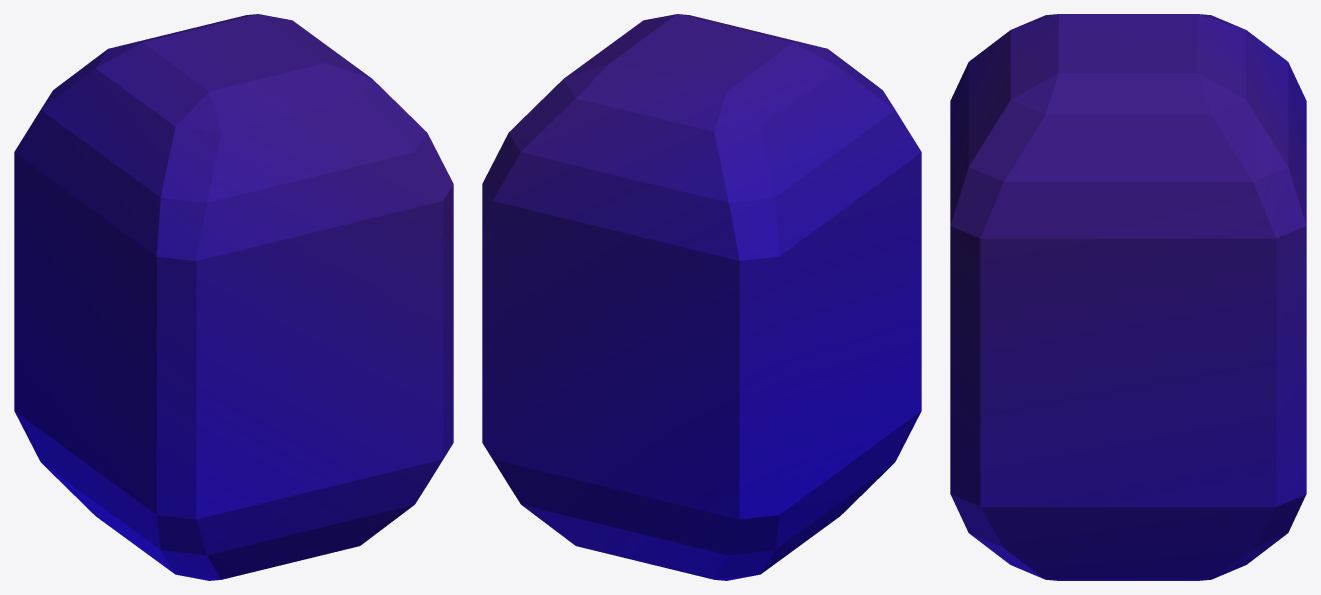
File: Kyanite.fbx
3 renders of one model, left to right at view 1: azimuth 30°, elevation 25°; view 2: azimuth 150°, elevation 25°; view 3: azimuth 270°, elevation 25°, orthographic. The views are drawn at different scales.
Parts seen in each view (by area): view 1: KYANITE.001; view 2: KYANITE.001; view 3: KYANITE.001.
Part boxes in pixels (x1,y1,x2,y2): KYANITE.001: [14, 14, 453, 580]; KYANITE.001: [482, 14, 921, 580]; KYANITE.001: [950, 14, 1306, 580].
Size of the model in its own units: 133 by 210 by 133.
1 material, 1 textured.
